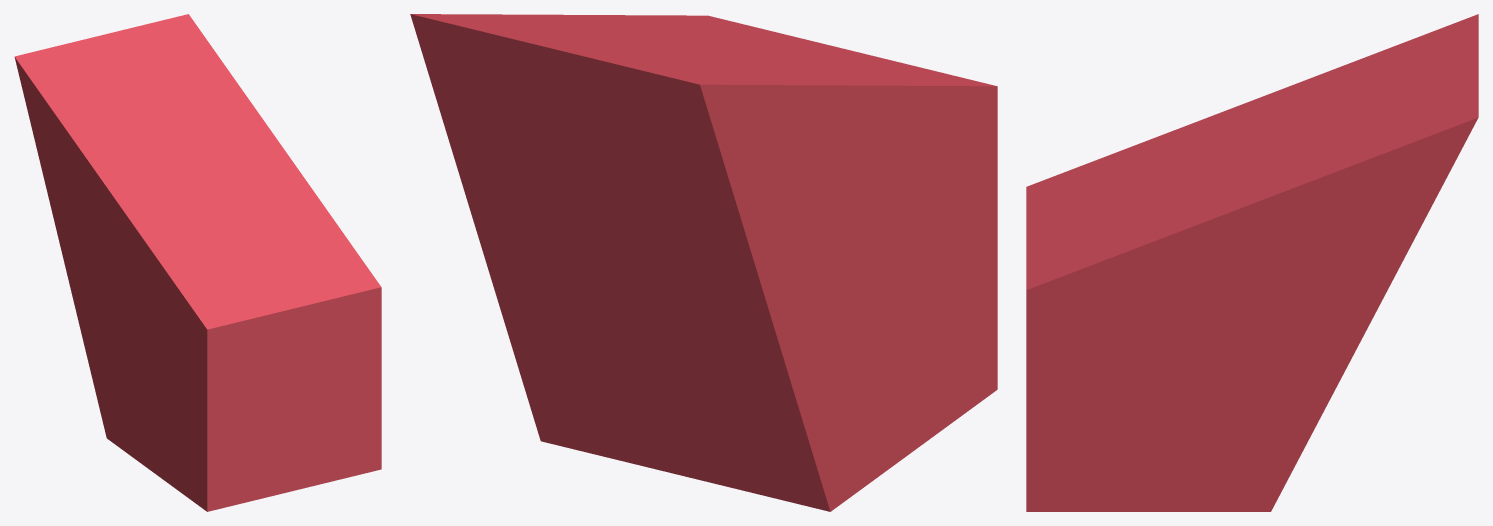
File: sample1.glb
The picture shows the model from 3 angles, left to right: view 1: azimuth 30°, elevation 25°; view 2: azimuth 150°, elevation 25°; view 3: azimuth 270°, elevation 25°; orthographic projection. The views are drawn at different scales.
Visible parts, largest first — view 1: Cube; view 2: Cube; view 3: Cube.
Boxes of the visible parts, left/top/right/bottom form: Cube: left=14, top=14, right=381, bottom=511; Cube: left=410, top=14, right=997, bottom=511; Cube: left=1026, top=14, right=1478, bottom=511.
Bounding box in the file's own units: 2.08 × 3.52 × 3.7.
